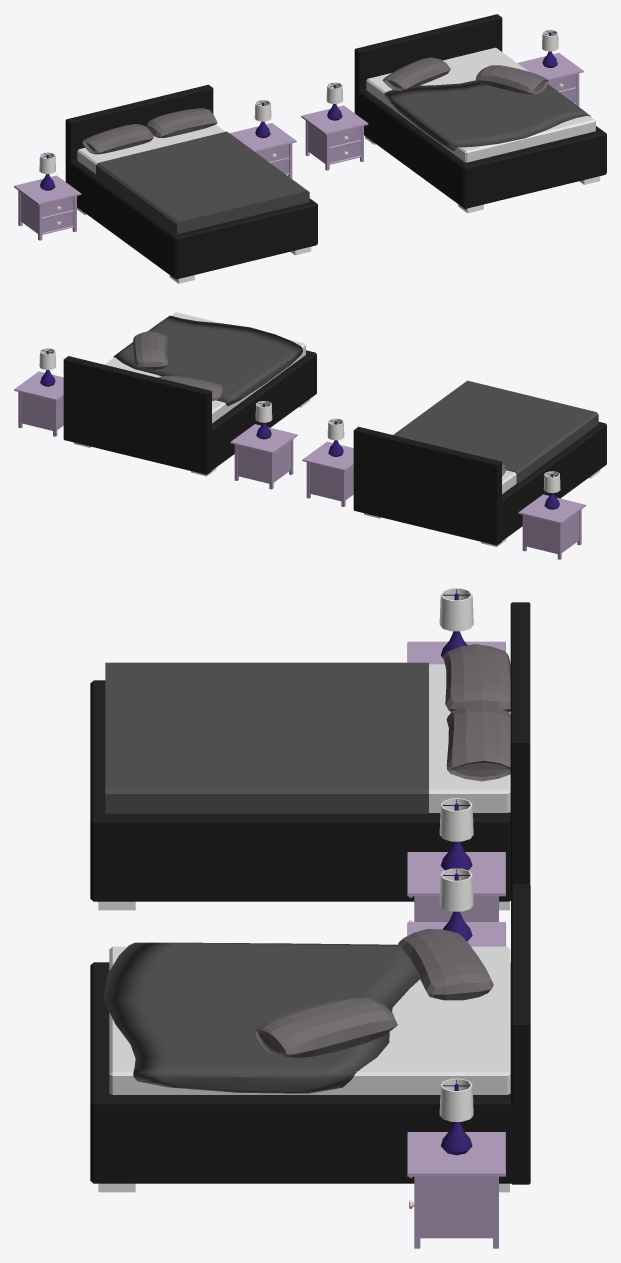
Rendered from Bedroom.fbx.
The picture shows the model from 3 angles, top to bottom: view 1: azimuth 30°, elevation 25°; view 2: azimuth 150°, elevation 25°; view 3: azimuth 270°, elevation 25°; orthographic projection. The views are drawn at different scales.
Parts seen in each view (by area): view 1: BED.019, BED.007, NightStand_3, NightStand_3.002, NightStand_3.001, NightStand_3.003, Light_Floor2.001, Light_Floor2.003, Light_Floor2.002, Light_Floor2; view 2: BED.007, BED.019, NightStand_3, NightStand_3.002, NightStand_3.001, NightStand_3.003, Light_Floor2.002, Light_Floor2, Light_Floor2.001, Light_Floor2.003; view 3: BED.019, BED.007, NightStand_3.003, NightStand_3.001, Light_Floor2.002, Light_Floor2, Light_Floor2.003, Light_Floor2.001, NightStand_3.002, NightStand_3.
Part boxes in pixels (x1,y1,x2,y2): BED.019: [354, 14, 606, 213]; BED.007: [65, 84, 317, 283]; NightStand_3: [14, 175, 81, 240]; NightStand_3.002: [301, 105, 368, 170]; NightStand_3.001: [230, 123, 296, 178]; NightStand_3.003: [517, 53, 583, 106]; Light_Floor2.001: [39, 152, 55, 190]; Light_Floor2.003: [326, 82, 343, 120]; Light_Floor2.002: [542, 29, 558, 67]; Light_Floor2: [254, 100, 271, 138]; BED.007: [353, 380, 606, 546]; BED.019: [63, 312, 316, 476]; NightStand_3: [518, 494, 585, 559]; NightStand_3.002: [230, 424, 297, 489]; NightStand_3.001: [302, 441, 353, 506]; NightStand_3.003: [14, 371, 63, 436]; Light_Floor2.002: [39, 348, 56, 386]; Light_Floor2: [327, 418, 344, 456]; Light_Floor2.001: [543, 471, 560, 509]; Light_Floor2.003: [255, 401, 272, 439]; BED.019: [90, 884, 530, 1192]; BED.007: [90, 602, 530, 910]; NightStand_3.003: [407, 1132, 505, 1248]; NightStand_3.001: [407, 852, 505, 921]; Light_Floor2.002: [439, 1078, 473, 1155]; Light_Floor2: [439, 798, 473, 870]; Light_Floor2.003: [439, 868, 473, 941]; Light_Floor2.001: [439, 588, 473, 657]; NightStand_3.002: [407, 922, 505, 946]; NightStand_3: [407, 641, 505, 664].
Bounding box in the file's own units: 6.08 × 0.9258 × 2.12.
